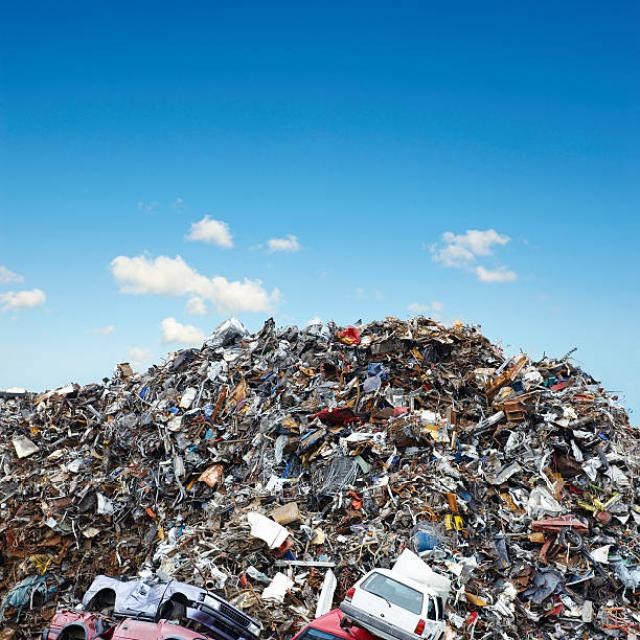trash: (15, 327, 594, 606)
